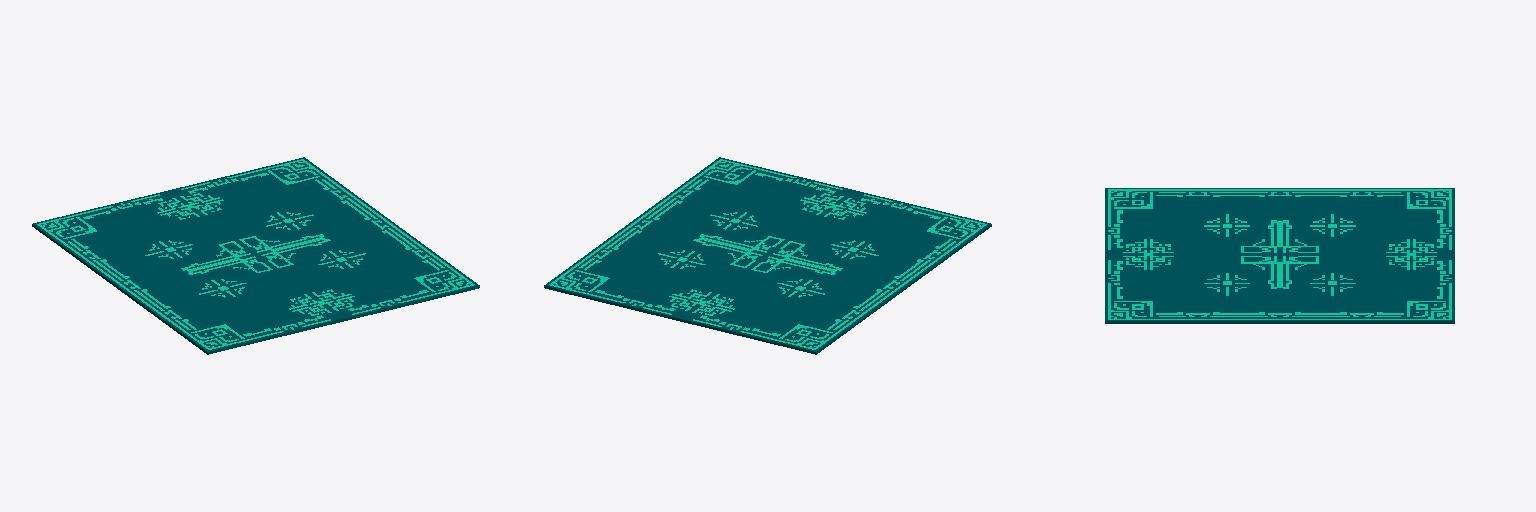
3 renders of one model, left to right at view 1: azimuth 30°, elevation 25°; view 2: azimuth 150°, elevation 25°; view 3: azimuth 270°, elevation 25°, orthographic.
Parts seen in each view (by area): view 1: object 1; view 2: object 1; view 3: object 1.
Part boxes in pixels (x1,y1,x2,y2): object 1: (32,157,479,354); object 1: (544,157,991,354); object 1: (1105,188,1454,323).
Size of the model in its own units: 10.4 by 0.1 by 11.6.
Materials: 1 (1 with a texture image).